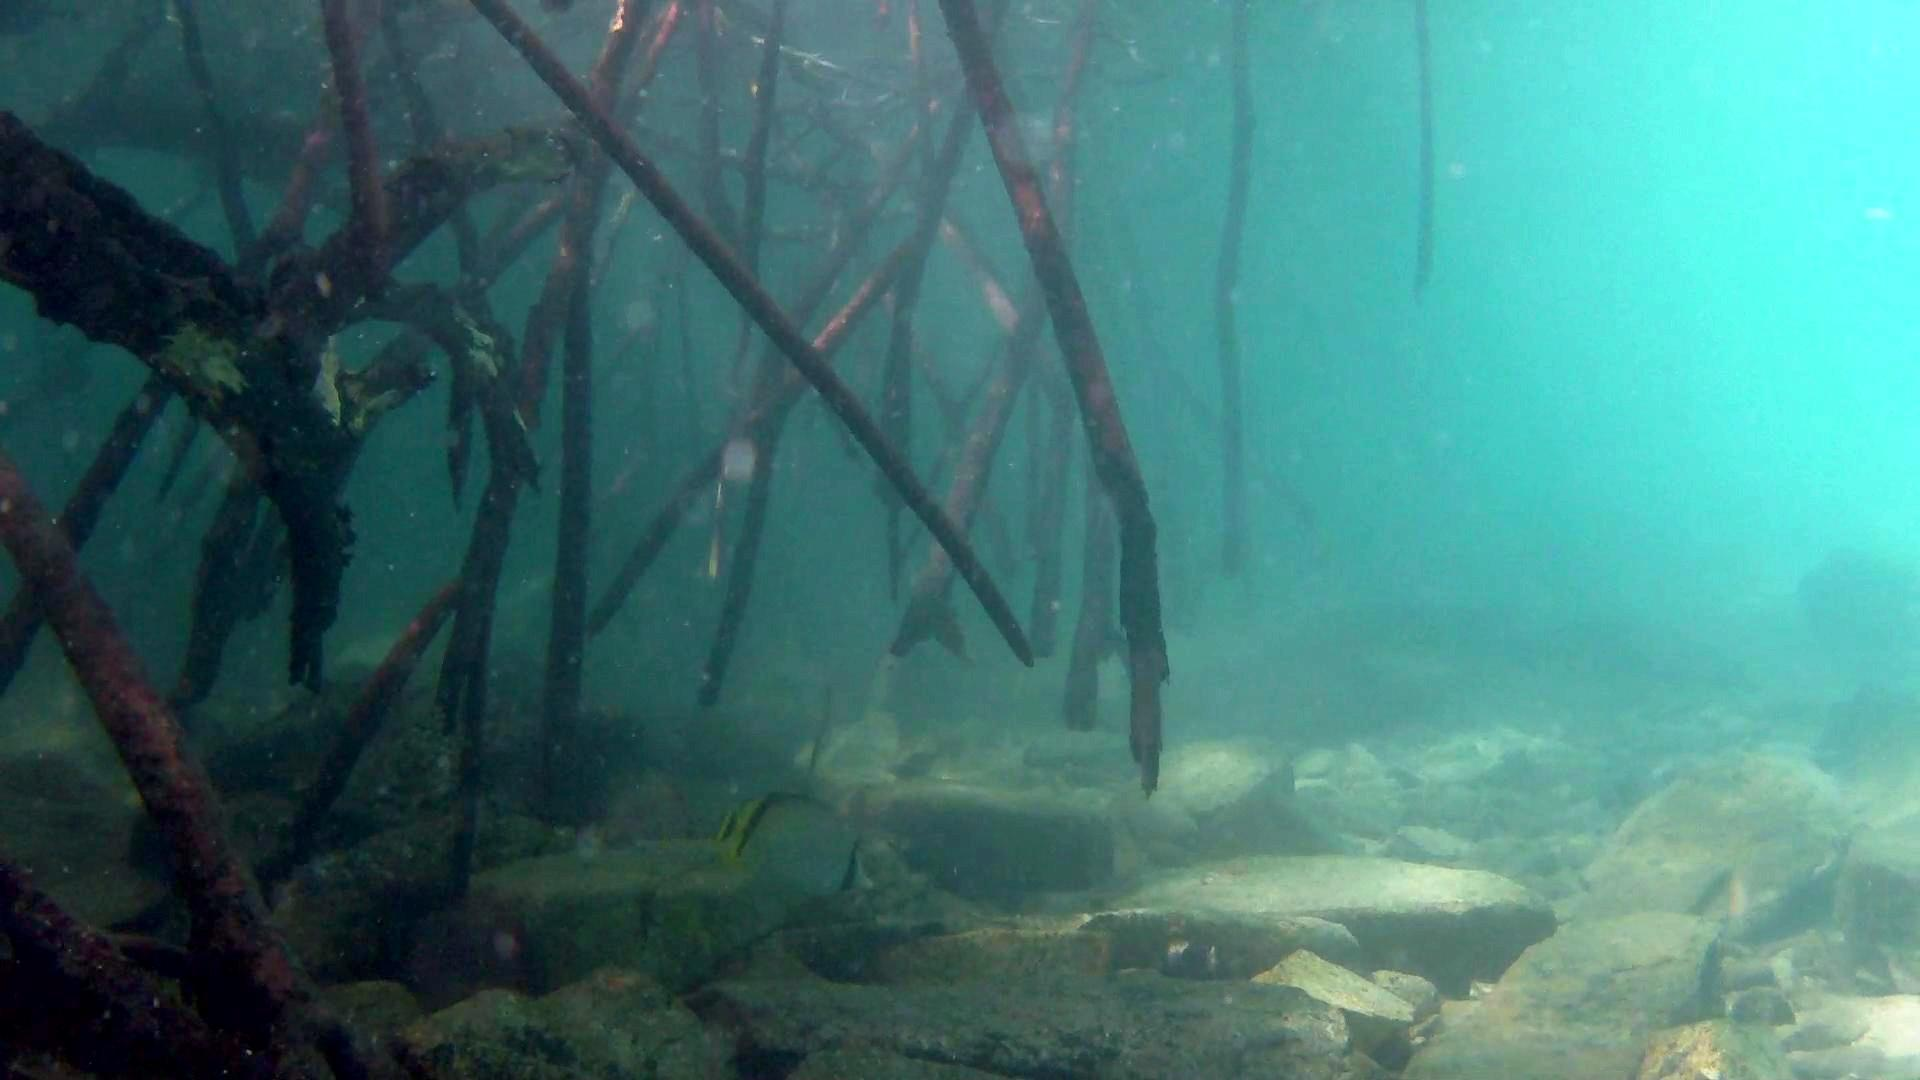chaetodon vagabundus: (710, 787, 879, 914)
